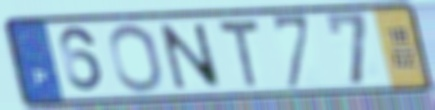6: (57, 24, 107, 97)
7: (323, 11, 372, 89), (271, 13, 315, 92)
N: (156, 22, 226, 92)
O: (106, 21, 167, 95)
T: (214, 17, 263, 91)
